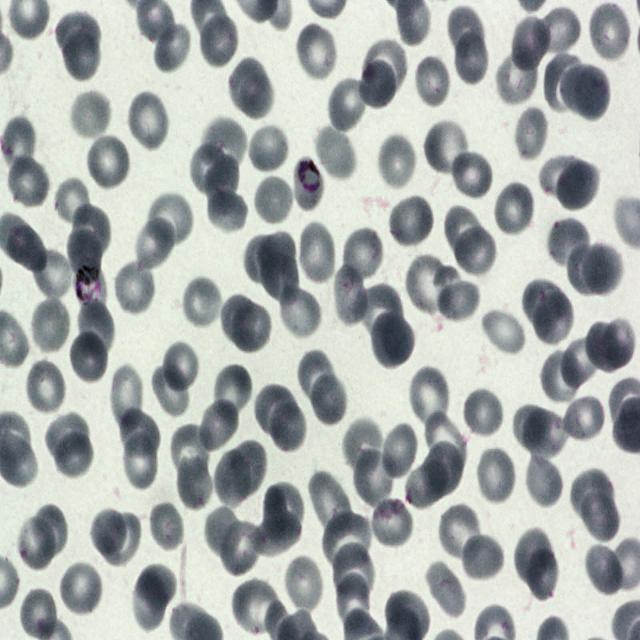red blood cell: (410, 445, 466, 509), (406, 252, 458, 318), (582, 315, 634, 377), (233, 577, 285, 638), (560, 62, 611, 124), (190, 145, 241, 204), (1, 215, 48, 279), (228, 56, 274, 121), (368, 307, 416, 369), (323, 510, 372, 570), (258, 232, 298, 304), (262, 479, 304, 547), (352, 283, 403, 339), (514, 404, 567, 457), (551, 156, 601, 212), (408, 365, 451, 430), (146, 191, 194, 249), (126, 90, 170, 153), (304, 469, 350, 529), (424, 118, 470, 178), (330, 542, 374, 604), (295, 22, 339, 83), (423, 557, 466, 619), (352, 445, 394, 508), (296, 222, 337, 286), (388, 193, 434, 250), (86, 134, 131, 192), (588, 2, 630, 64), (108, 364, 146, 432), (58, 561, 104, 617), (420, 412, 465, 469), (29, 295, 71, 356), (198, 9, 240, 70), (113, 258, 157, 316), (475, 446, 517, 506), (493, 180, 536, 238), (196, 396, 239, 454), (560, 391, 606, 445), (227, 438, 269, 497), (436, 272, 481, 327), (356, 54, 400, 110), (496, 53, 540, 109), (342, 416, 383, 476), (25, 358, 67, 416), (369, 496, 414, 550), (221, 522, 266, 576), (546, 219, 590, 274), (283, 555, 324, 614), (437, 501, 480, 557), (567, 240, 610, 296), (148, 362, 191, 418), (250, 511, 302, 557), (570, 467, 615, 520), (377, 134, 418, 192), (78, 296, 115, 360), (181, 275, 223, 331), (537, 348, 580, 402), (308, 369, 348, 427), (254, 382, 296, 437), (314, 124, 355, 180), (481, 305, 526, 356), (460, 532, 504, 584), (450, 149, 494, 201), (524, 452, 564, 509), (328, 76, 368, 133), (558, 336, 601, 389), (201, 118, 248, 166), (363, 39, 409, 88), (454, 227, 498, 278), (69, 329, 109, 385), (584, 540, 624, 596), (179, 451, 214, 515), (511, 16, 554, 68), (385, 590, 429, 640), (544, 51, 580, 112), (247, 123, 290, 174), (522, 278, 564, 330), (298, 350, 338, 404), (463, 388, 506, 438), (413, 55, 452, 110), (534, 293, 576, 344), (68, 87, 110, 138), (120, 435, 158, 491), (133, 218, 173, 271), (212, 366, 251, 420), (104, 513, 143, 567), (252, 176, 294, 226), (278, 289, 320, 339), (32, 502, 70, 557), (18, 517, 56, 572), (512, 106, 549, 162), (44, 411, 88, 458), (216, 450, 251, 509), (232, 301, 270, 355), (206, 185, 247, 235), (19, 590, 60, 640), (338, 573, 371, 635), (56, 9, 98, 57), (340, 232, 382, 280), (580, 492, 622, 540), (54, 175, 92, 227), (454, 26, 488, 84), (8, 157, 49, 205), (148, 502, 185, 555), (171, 423, 211, 472), (75, 204, 114, 254), (150, 20, 189, 69), (444, 206, 483, 255), (584, 245, 623, 294), (514, 532, 550, 585), (132, 574, 166, 630), (219, 292, 257, 342), (122, 408, 162, 455), (270, 399, 306, 451), (62, 32, 100, 81), (203, 506, 240, 556), (538, 9, 579, 54), (32, 248, 70, 296), (381, 423, 414, 477), (447, 7, 484, 55), (68, 228, 102, 280), (92, 508, 127, 558), (163, 342, 199, 390), (336, 267, 368, 321), (56, 431, 92, 479), (1, 117, 37, 163), (136, 566, 176, 607), (528, 546, 556, 600), (245, 239, 277, 284)
trophozoite: (71, 256, 108, 316), (288, 157, 322, 212)
